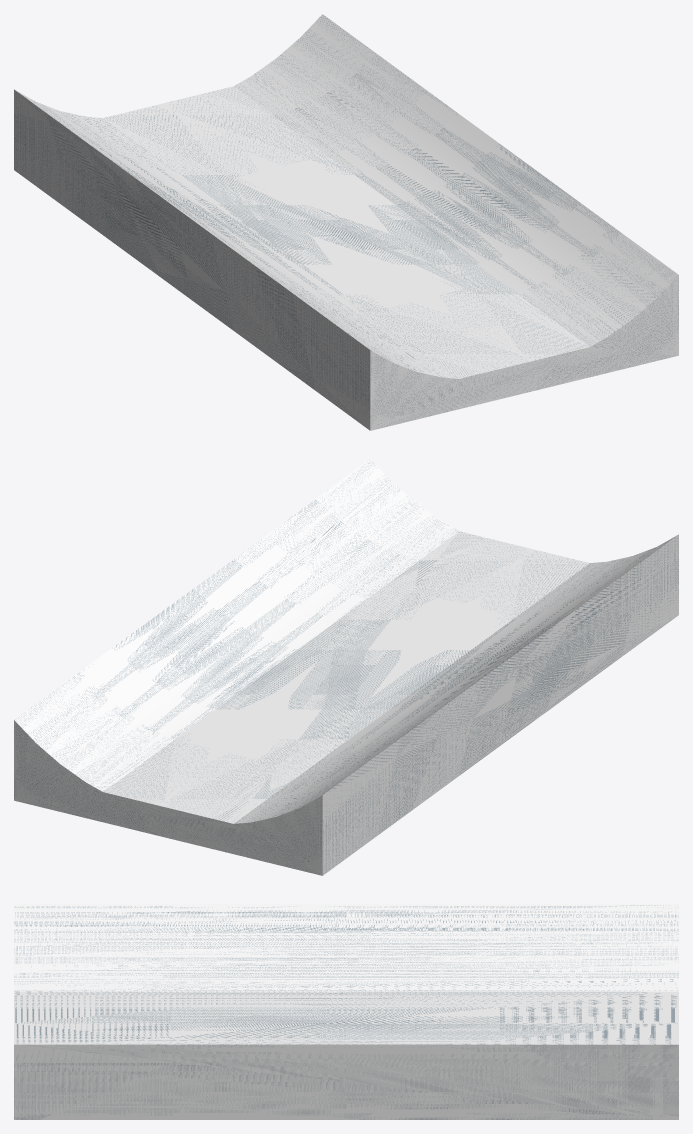
Rendered from changingMattress.dae.
3 views of the same model, one above another, from view 1: azimuth 30°, elevation 25°; view 2: azimuth 150°, elevation 25°; view 3: azimuth 270°, elevation 25° (orthographic). The views are drawn at different scales.
Visible parts, largest first — view 1: SketchUp; view 2: SketchUp; view 3: SketchUp.
Part boxes in pixels (x1,y1,x2,y2): SketchUp: [14, 14, 678, 430]; SketchUp: [14, 459, 678, 875]; SketchUp: [14, 904, 678, 1119].
Size of the model in its own units: 16 by 32 by 4.
